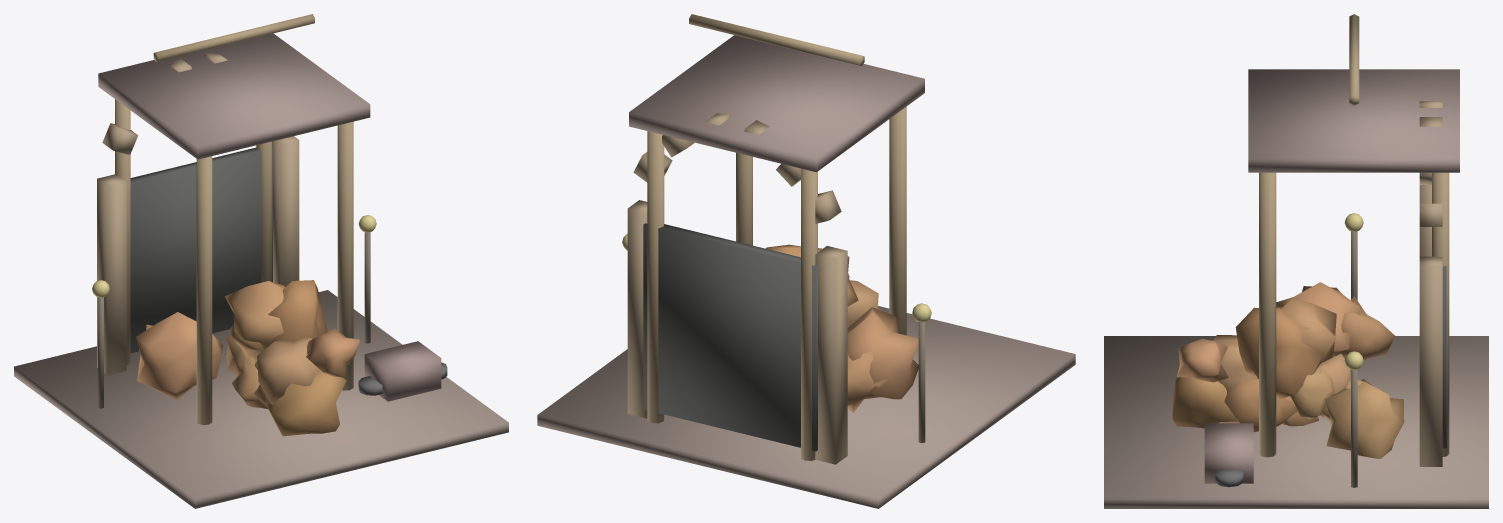
The model's file is ore_copper_large.glb.
3 renders of one model, left to right at view 1: azimuth 30°, elevation 25°; view 2: azimuth 150°, elevation 25°; view 3: azimuth 270°, elevation 25°, orthographic. The views are drawn at different scales.
Parts seen in each view (by area): view 1: ore_base, tower_platform, arch_dark, arch_post-1, tower_post2, ore10, arch_post1, tower_post3, cart_body, ore4, ore12, ore11 (+10 smaller); view 2: ore_base, arch_dark, tower_platform, arch_post-1, ore10, tower_post1, tower_post2, arch_post1, tower_post0, tower_beam, tower_post3, ore7 (+3 smaller); view 3: ore_base, tower_platform, tower_post3, arch_post1, ore2, ore15, cart_body, ore4, tower_post1, ore12, ore7, ore13 (+12 smaller).
Part boxes in pixels (x1,y1,x2,y2): ore_base: (14,290,508,508); tower_platform: (98,33,370,159); arch_dark: (130,147,272,353); arch_post-1: (97,174,126,375); tower_post2: (196,156,212,424); ore10: (135,312,222,399); arch_post1: (272,136,299,284); tower_post3: (337,121,353,390); cart_body: (364,341,441,401); ore4: (266,370,346,436); ore12: (225,281,284,361); ore11: (257,338,318,404); ore_base: (537,306,1075,508); arch_dark: (643,223,817,451); tower_platform: (629,35,924,172); arch_post-1: (815,246,847,464); ore10: (847,307,918,399); tower_post1: (647,131,664,423); tower_post2: (889,106,906,335); arch_post1: (627,200,647,418); tower_post0: (801,168,817,460); tower_beam: (689,14,864,65); tower_post3: (736,152,752,245); ore7: (847,351,887,412); ore_base: (1104,336,1488,508); tower_platform: (1248,69,1459,172); tower_post3: (1259,172,1276,457); arch_post1: (1419,256,1442,466); ore2: (1324,382,1404,458); ore15: (1235,307,1323,399); cart_body: (1204,423,1253,483); ore4: (1172,377,1237,428); tower_post1: (1432,172,1449,456); ore12: (1276,299,1336,363); ore7: (1333,296,1394,360); ore13: (1177,338,1228,382).
Size of the model in its own units: 40 by 43.93 by 40.
